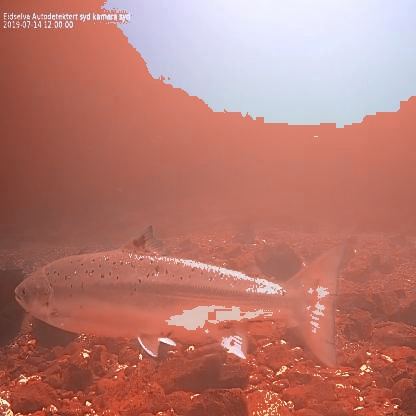salmon: (12, 223, 349, 372)
